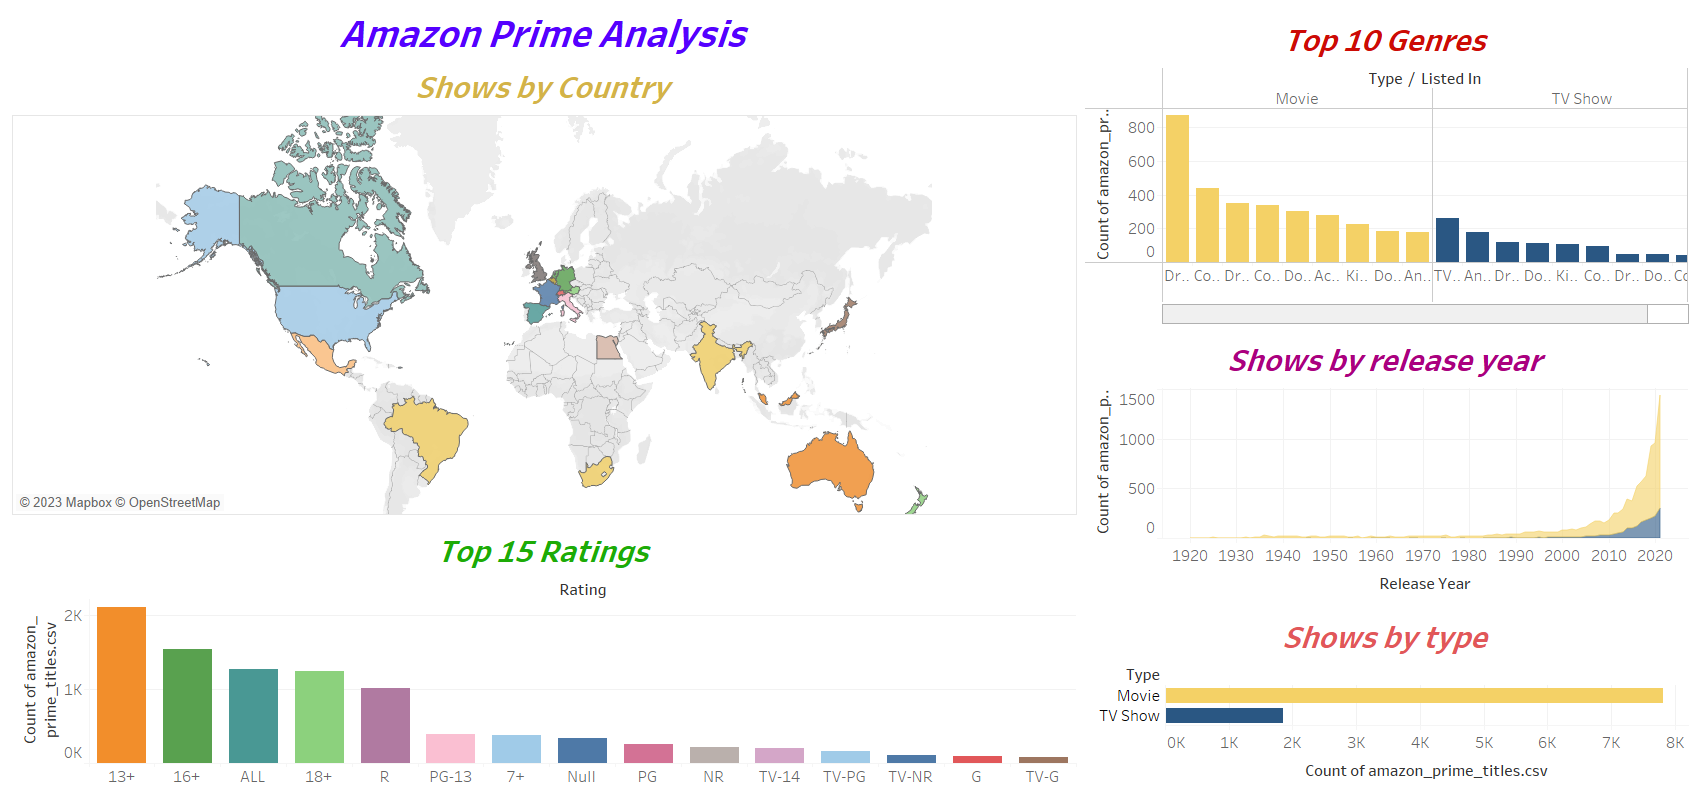

What the dashboard file says about the page in this screenshot:
{"tool":"tableau","page":{"name":"Final Dashboard","canvas":[1700,800],"ordinal":0},"visuals":[{"type":"text","box":[8,8,1073,47]},{"type":"worksheet","title":"Top 10 Genre","mark":"Automatic","rows":["amazon_prime_titles.csv_957E526DC1FA49B9AA4EC85A5F4CD9E9"],"cols":["type","listed_in"],"box":[1081,8,611,320]},{"type":"worksheet","title":"Shows by country","mark":"Multipolygon","box":[8,55,1073,464]},{"type":"worksheet","title":"Shows by release year","mark":"Area","rows":["amazon_prime_titles.csv_957E526DC1FA49B9AA4EC85A5F4CD9E9"],"cols":["release_year"],"box":[1081,328,611,277]},{"type":"worksheet","title":"Top 15","mark":"Automatic","rows":["amazon_prime_titles.csv_957E526DC1FA49B9AA4EC85A5F4CD9E9"],"cols":["rating"],"box":[8,519,1073,273]},{"type":"worksheet","title":"Type","mark":"Automatic","rows":["type"],"cols":["amazon_prime_titles.csv_957E526DC1FA49B9AA4EC85A5F4CD9E9"],"box":[1081,605,611,187]}]}

Visuals, with their boxes in screenshot pixels (x1, y1, x2, y2), scaled from the page's 1700x800 canvas onto the 1700x800 screenshot:
text: bbox=(8, 8, 1081, 55)
"Top 10 Genre" worksheet: bbox=(1081, 8, 1692, 328)
"Shows by country" worksheet (Multipolygon marks): bbox=(8, 55, 1081, 519)
"Shows by release year" worksheet (Area marks): bbox=(1081, 328, 1692, 605)
"Top 15" worksheet: bbox=(8, 519, 1081, 792)
"Type" worksheet: bbox=(1081, 605, 1692, 792)
